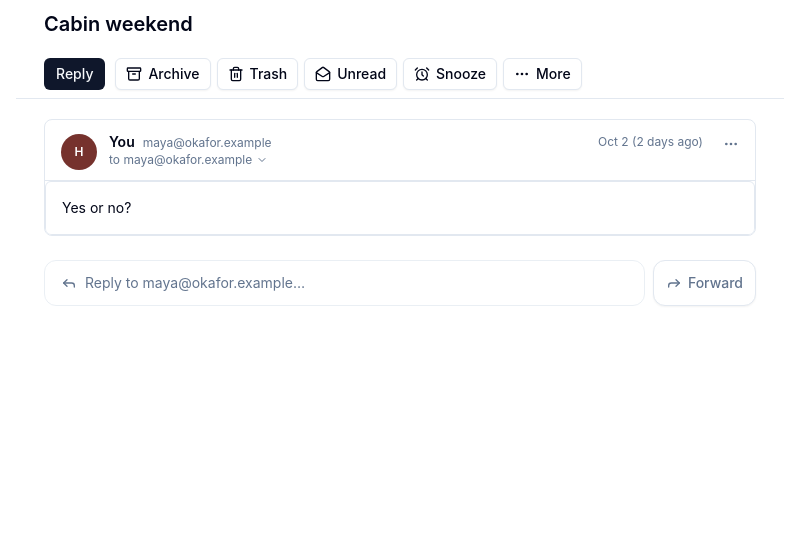
Test: reply and reply all › offers a follow-up on a thread that holds only my own sent mail
The image size is (801, 556).
Click the button "Reply" at (75, 74), box x1=44 y1=58 x2=105 y2=90
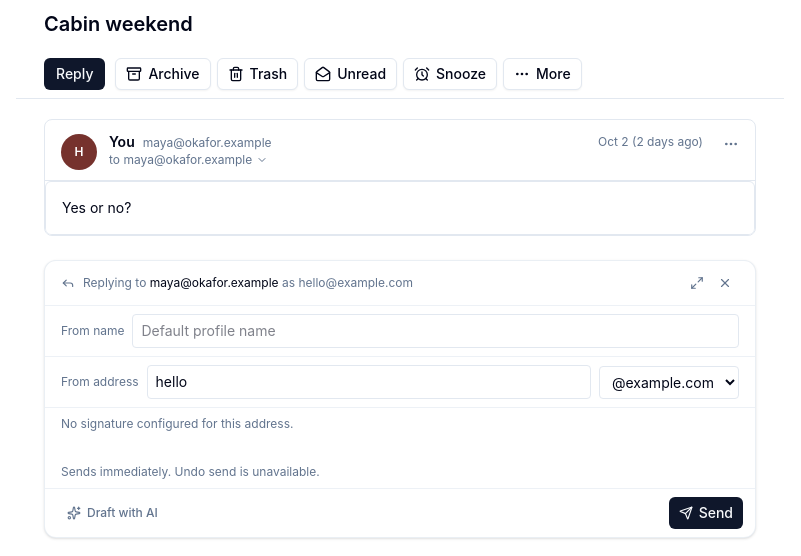
expect the element with test id "inline-reply" shows "Replying to maya@okafor.example as hello@example.com": met, box x1=44 y1=260 x2=756 y2=538
